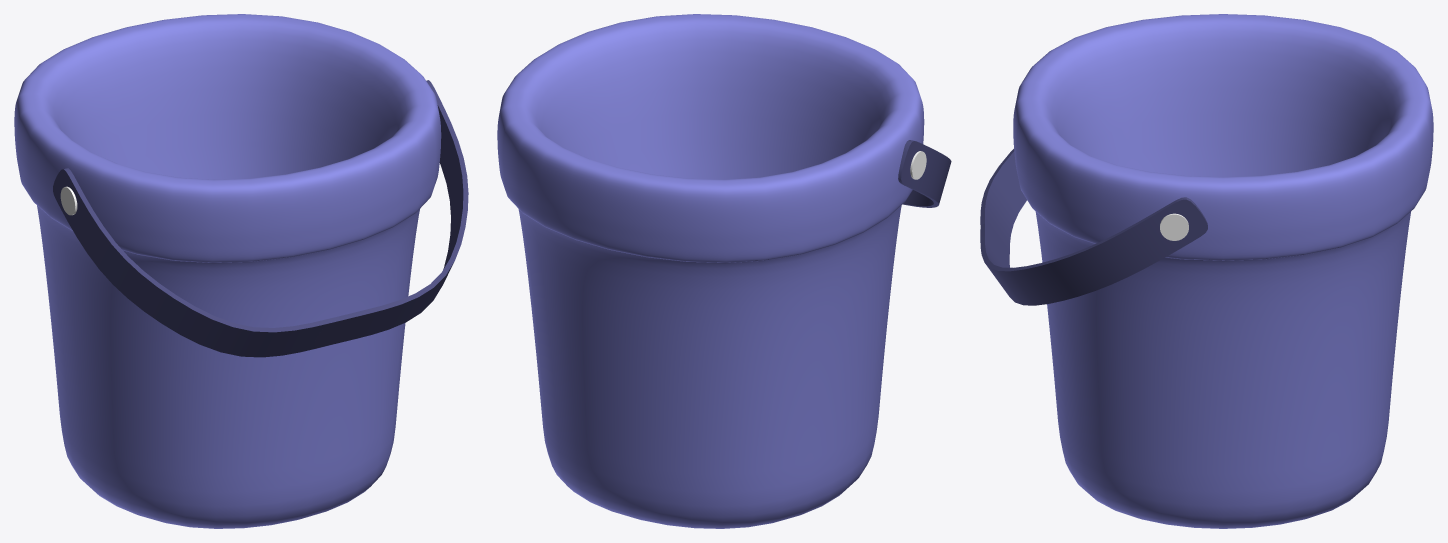
File: zxc.fbx
The picture shows the model from 3 angles, left to right: view 1: azimuth 30°, elevation 25°; view 2: azimuth 150°, elevation 25°; view 3: azimuth 270°, elevation 25°; orthographic projection.
Visible parts, largest first — view 1: Cube, Plane; view 2: Cube, Plane; view 3: Cube, Plane, Cylinder.
Part boxes in pixels (left/top/right/bottom): Cube: left=14, top=14, right=441, bottom=528; Plane: left=53, top=80, right=468, bottom=357; Cube: left=497, top=14, right=924, bottom=528; Plane: left=898, top=140, right=951, bottom=207; Cube: left=1013, top=14, right=1433, bottom=528; Plane: left=980, top=149, right=1207, bottom=305; Cylinder: left=1160, top=213, right=1188, bottom=240.
Bounding box in the file's own units: 242 × 238 × 256.
